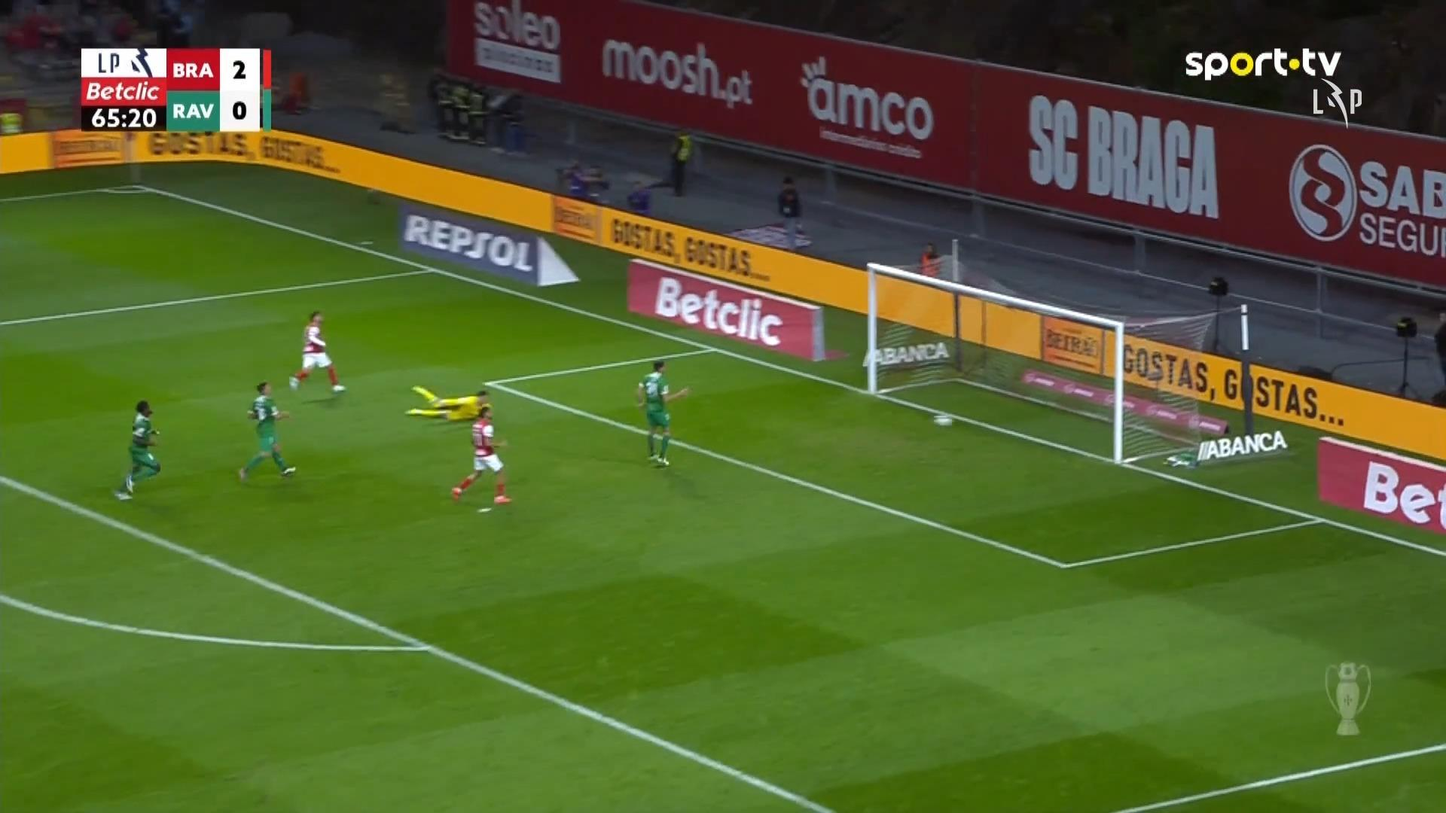ball: (932, 415, 952, 427)
goalkeeper: (404, 384, 491, 422)
player: (450, 403, 512, 504), (236, 380, 296, 482), (634, 358, 690, 466), (288, 309, 346, 393), (114, 399, 162, 500)
